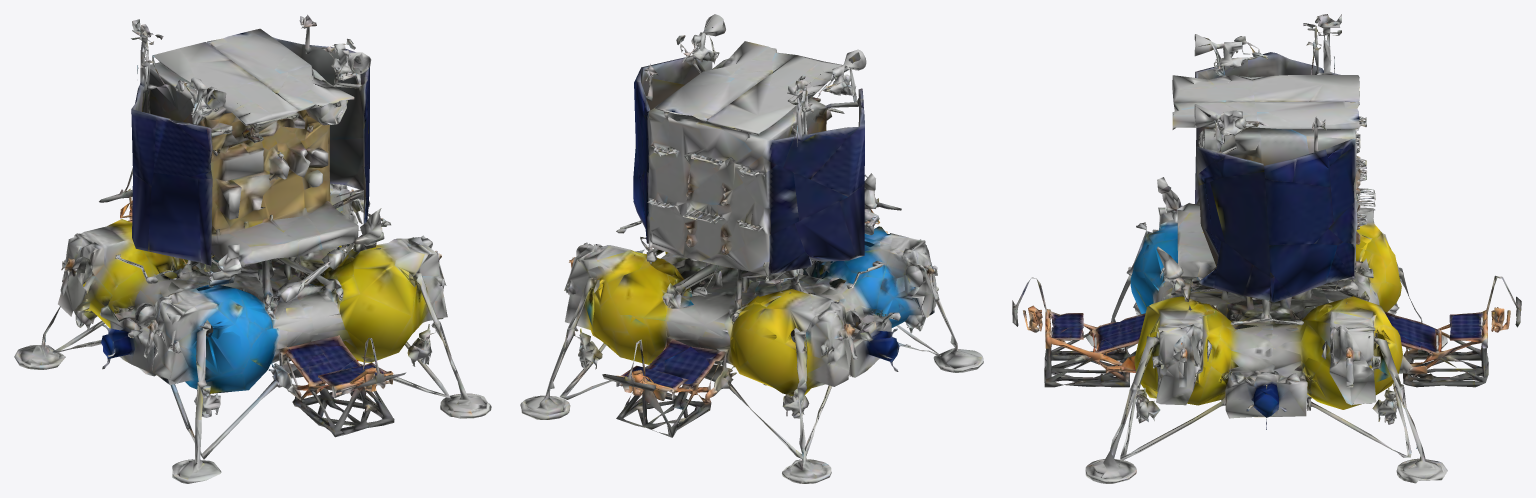
The model's file is luna27-low.glb.
3 views of the same model, side by side, from view 1: azimuth 30°, elevation 25°; view 2: azimuth 150°, elevation 25°; view 3: azimuth 270°, elevation 25° (orthographic). The views are drawn at different scales.
Size of the model in its own units: 1.34 by 1.45 by 1.89.
Materials: 1 (1 with a texture image).
